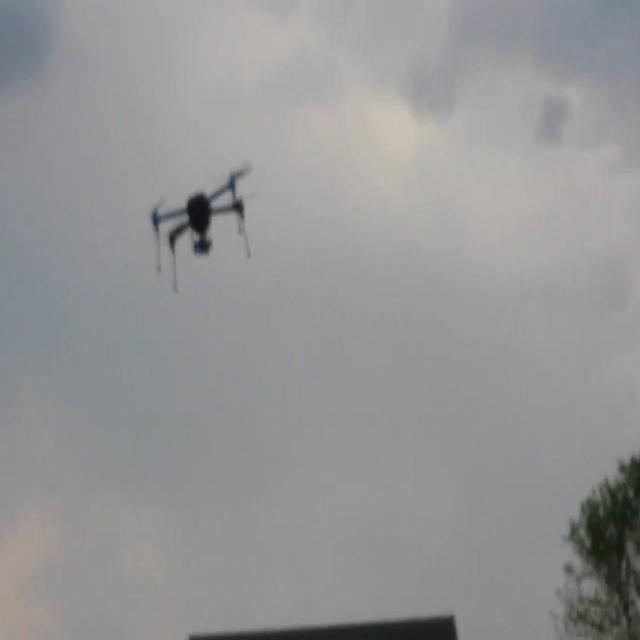UAV: (150, 161, 254, 293)
